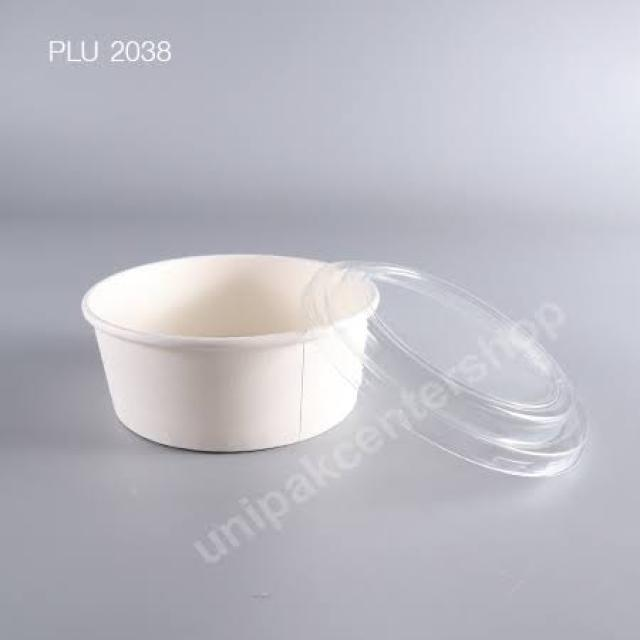plastic cup: (79, 216, 383, 462)
